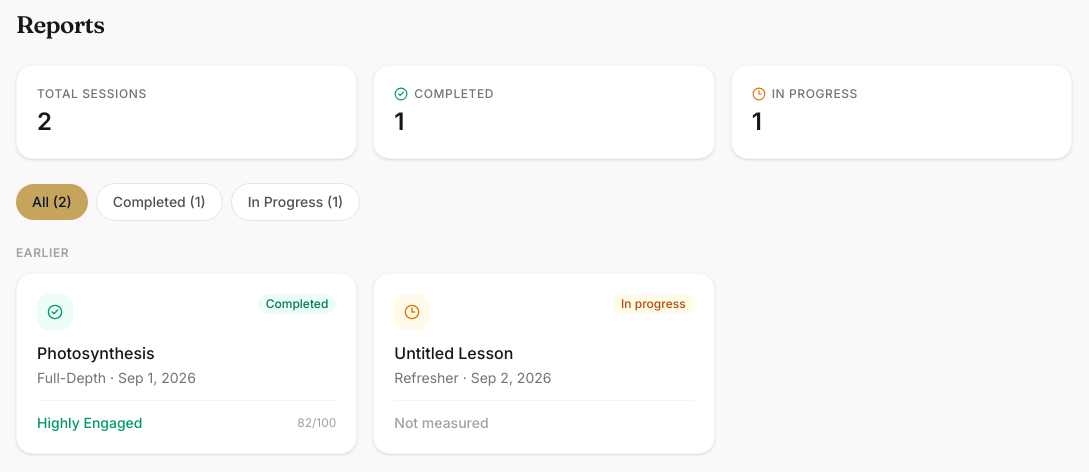
Scenario: ReportsIndex — Story 2-58 / BR-7 › filter tabs › narrows the grid to only completed sessions when the Completed tab is selected
Click the tab "Completed (1)" at [159, 202], box [96,183,223,221]
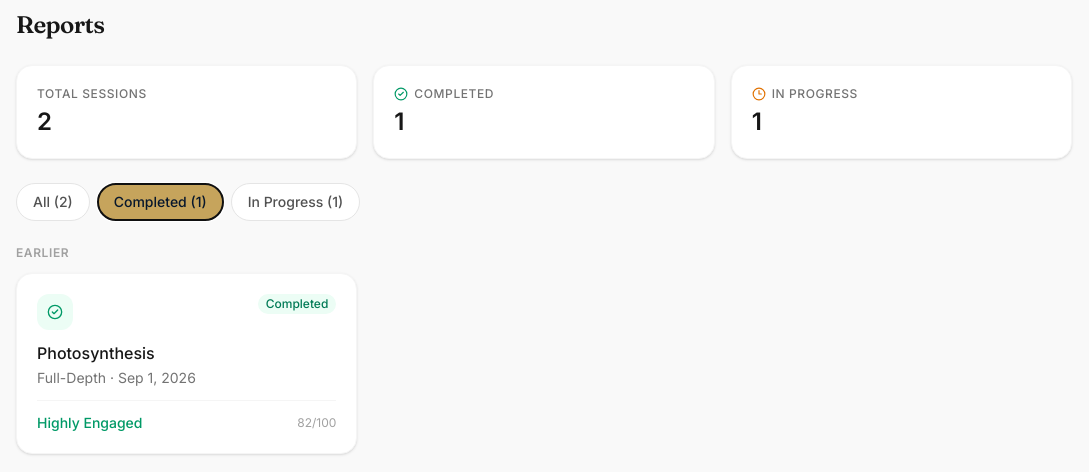
Expected: the link with test id "session-card-sess_1" is shown, [16,273,357,454]
Expected: the link with test id "session-card-sess_2" is gone
